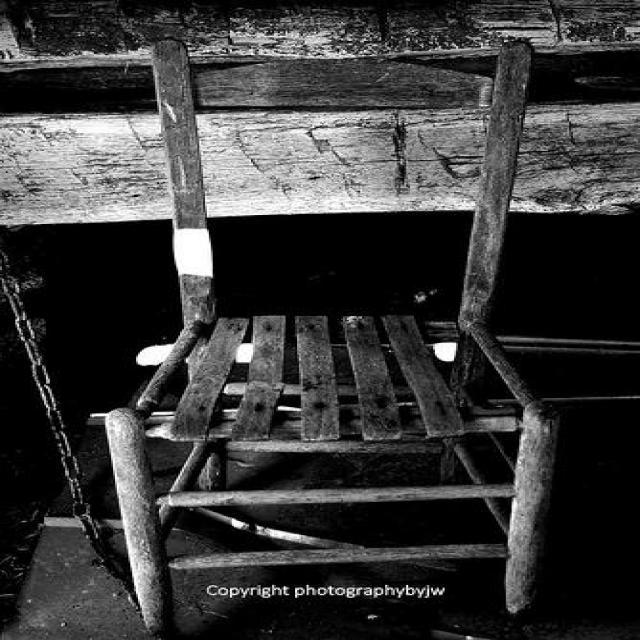chair: (104, 36, 554, 630)
